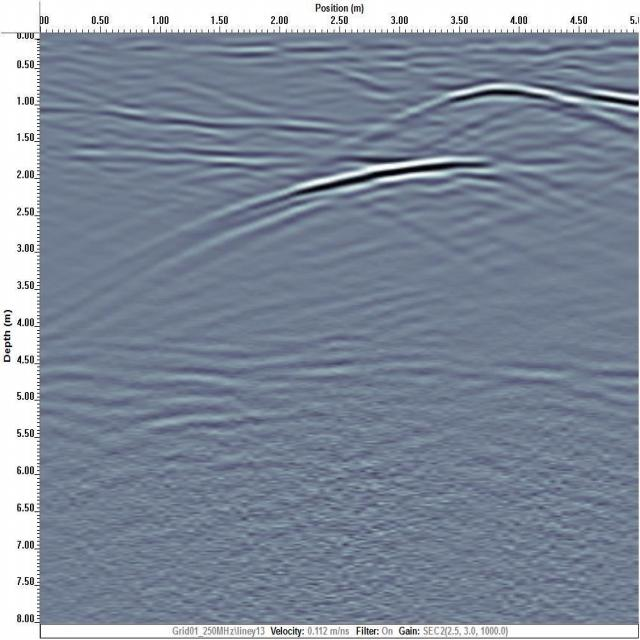hyperbola: (355, 74, 639, 145)
